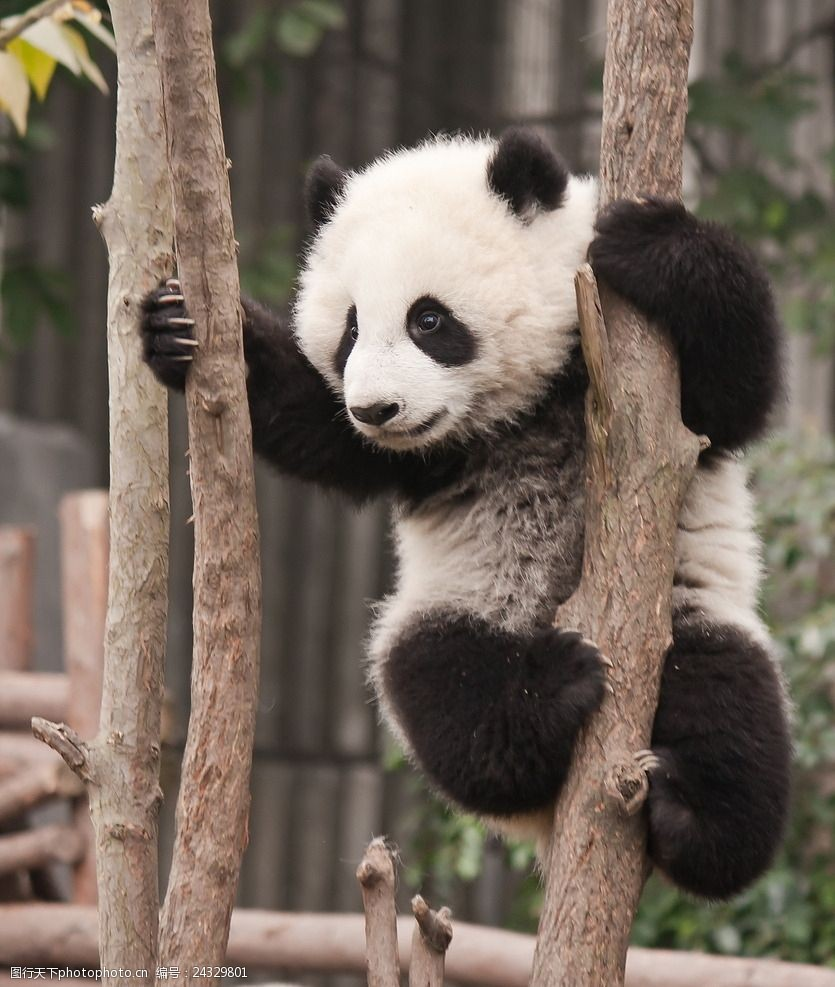panda: (152, 90, 809, 916)
